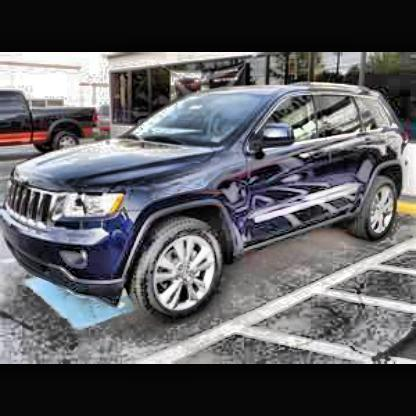Jeep Grand Cherokee SUV 2012: (4, 84, 411, 329)
